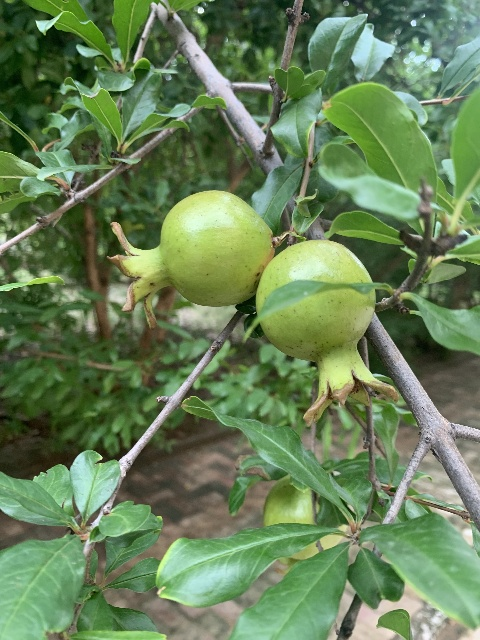mid-growth: (256, 238, 398, 425), (106, 189, 273, 325), (263, 475, 347, 575)
